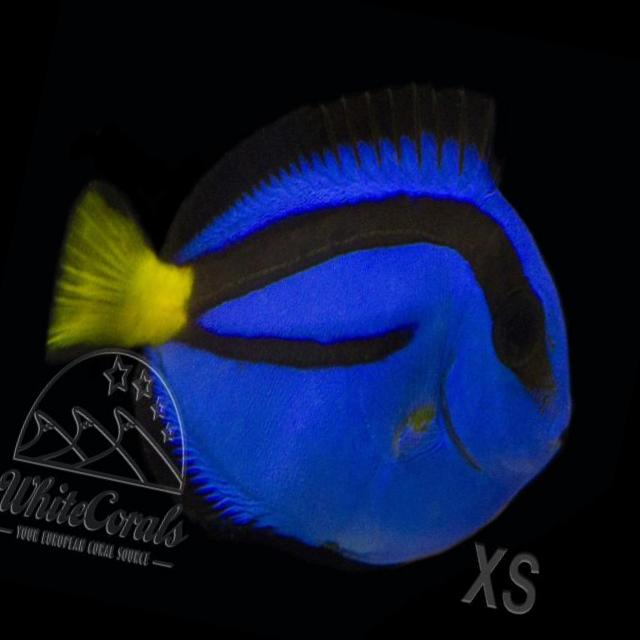TangFish: (14, 11, 632, 602)
